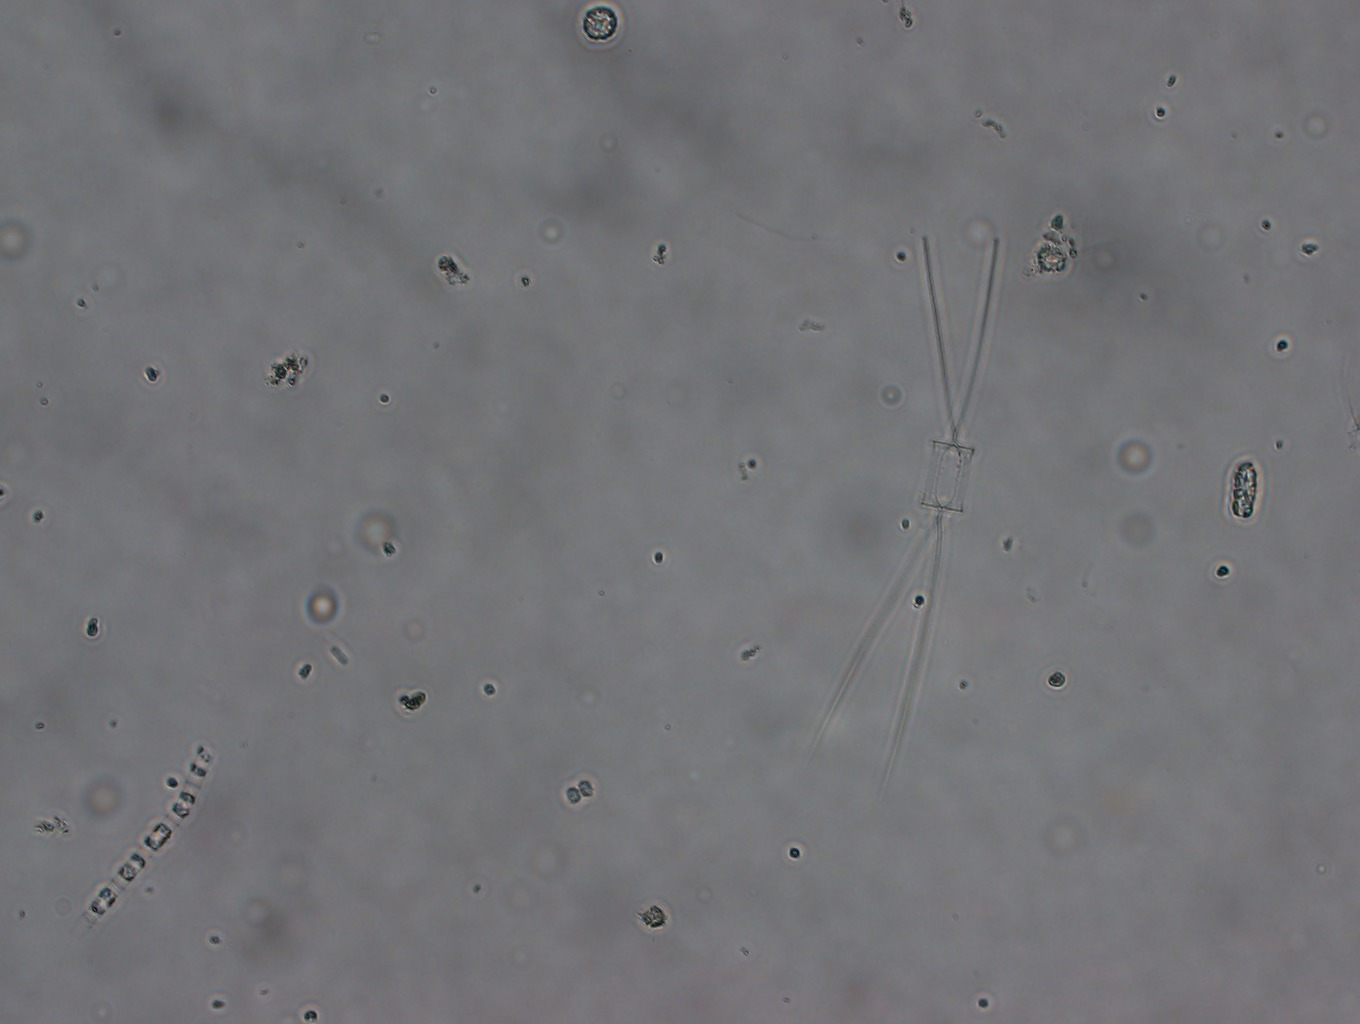chaetoceros: (796, 217, 1003, 797)
skeletonema: (72, 731, 216, 934)
